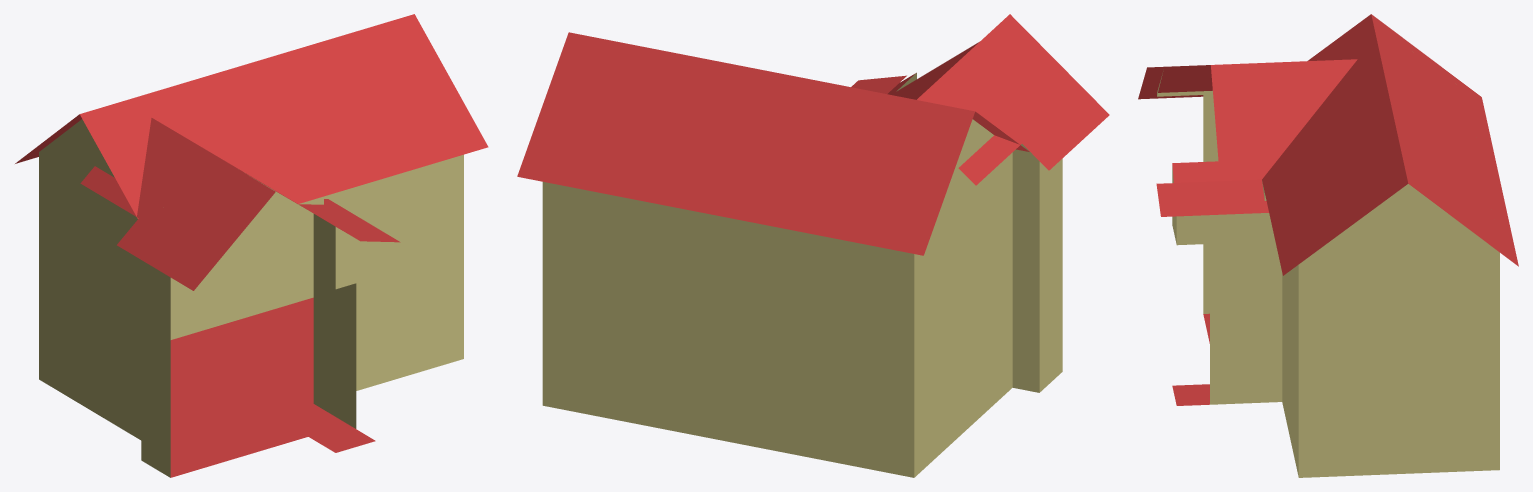
The picture shows the model from 3 angles, left to right: view 1: azimuth 30°, elevation 25°; view 2: azimuth 150°, elevation 25°; view 3: azimuth 270°, elevation 25°; orthographic projection. The views are drawn at different scales.
Bounding box in the file's own units: 18.49 × 16.36 × 14.1.
